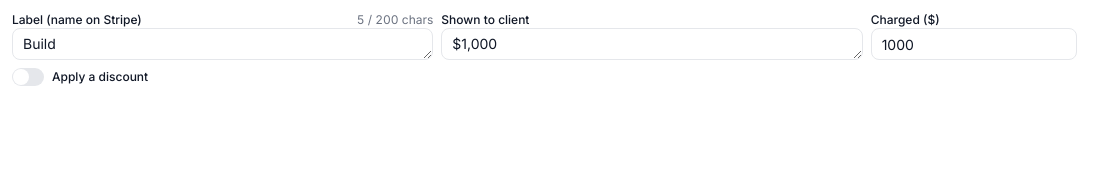
Test: MoneyFields discount inputs (RSL-33) › recomputes the charged net as list minus discount
Click the switch. click: click(28, 77)
box: [12,68,44,86]
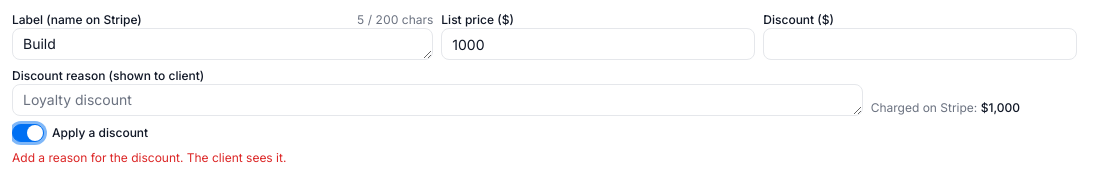
Type "250" into the number field labelled "Discount ($)". click: (920, 44)
box: [763,28,1077,60]
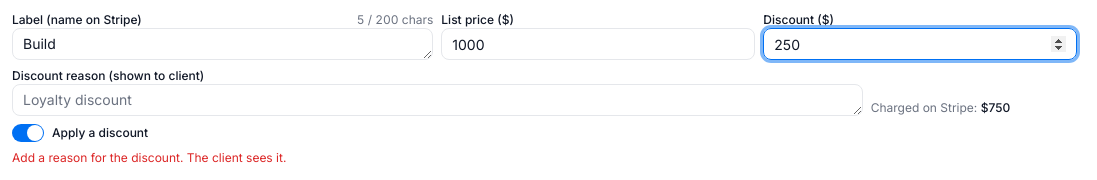
Now the text "$750" is shown, box [981,100,1010,115]
